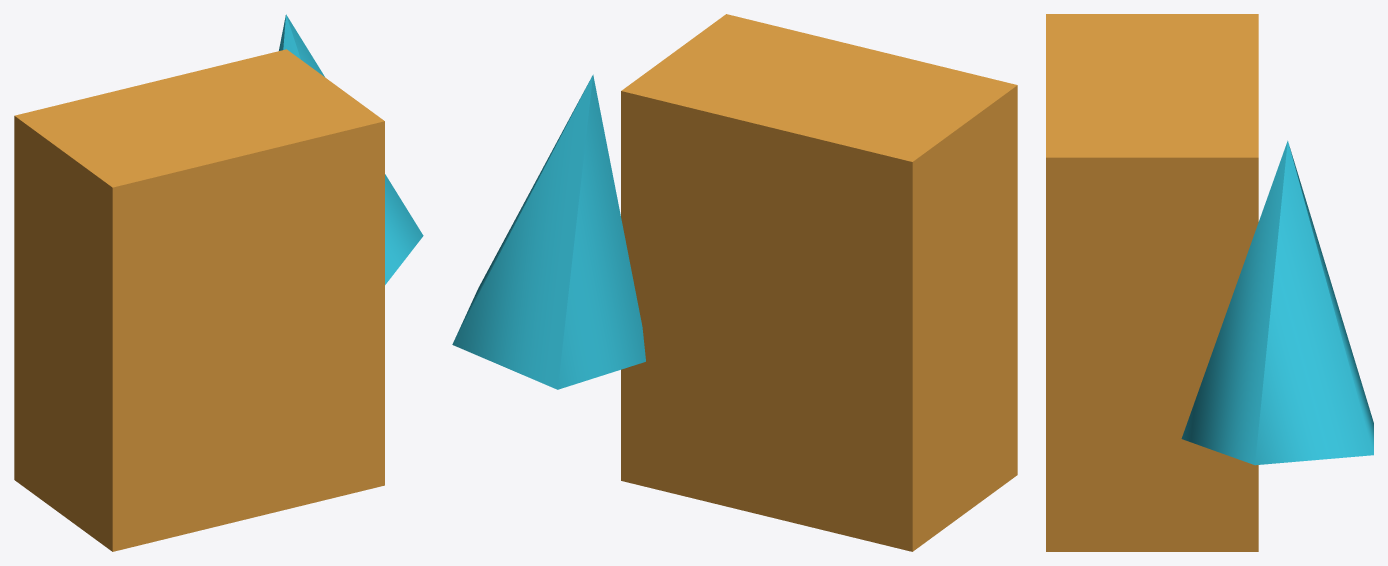
The model's file is frame-02.glb.
The picture shows the model from 3 angles, left to right: view 1: azimuth 30°, elevation 25°; view 2: azimuth 150°, elevation 25°; view 3: azimuth 270°, elevation 25°; orthographic projection. The views are drawn at different scales.
Size of the model in its own units: 0.5266 by 0.4776 by 0.339.
